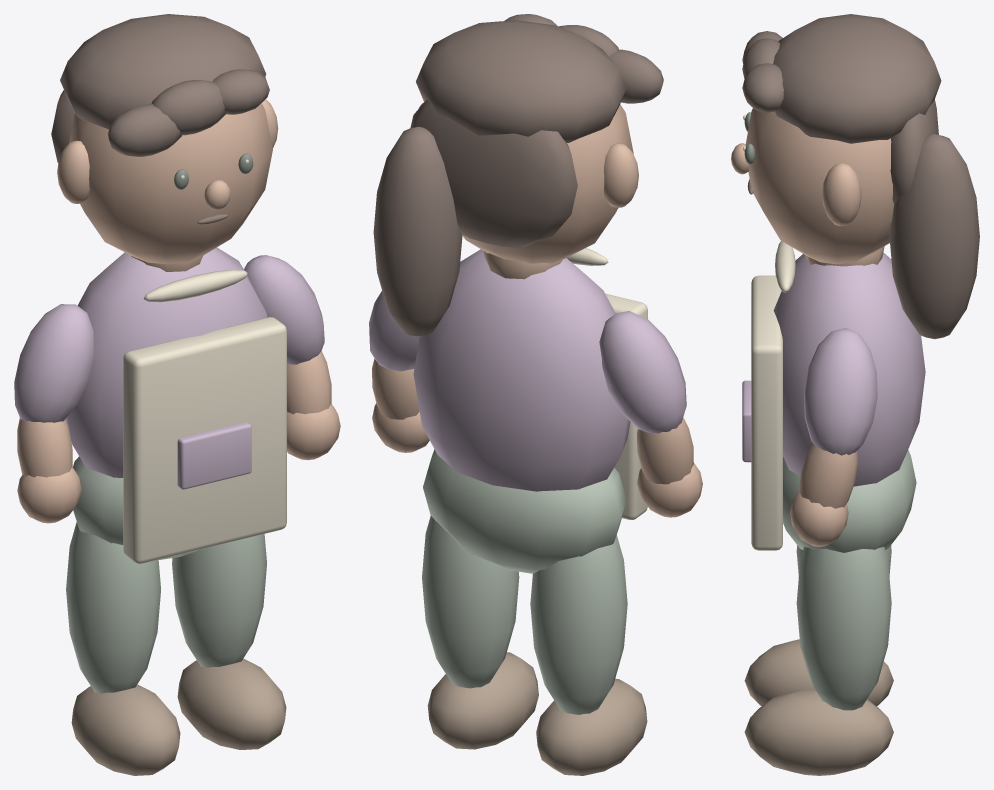
Rendered from alexis-idle.glb.
3 renders of one model, left to right at view 1: azimuth 30°, elevation 25°; view 2: azimuth 150°, elevation 25°; view 3: azimuth 270°, elevation 25°, orthographic. The views are drawn at different scales.
Parts seen in each view (by area): view 1: Apron.003, Head.015, Padded shirt.015, Hair crown.015, Trouser leg.030, Trouser leg.031, Rounded boot.031, Rounded boot.030, Shirt sleeve.030, Shirt sleeve.031, Apron pocket.003, Soft trouser seat.015 (+11 smaller); view 2: Padded shirt.015, Hair crown.015, Soft trouser seat.015, Hair back.015, Ponytail, Trouser leg.030, Trouser leg.031, Shirt sleeve.030, Rounded boot.030, Rounded boot.031, Head.015, Forearm.030 (+9 smaller); view 3: Padded shirt.015, Hair crown.015, Head.015, Ponytail, Trouser leg.031, Rounded boot.031, Apron.003, Shirt sleeve.031, Soft trouser seat.015, Rounded boot.030, Forearm.031, Hair back.015 (+7 smaller).
Boxes of the visible parts, <box> form: Apron.003: <box>123,317,286,563</box>; Head.015: <box>69,103,272,264</box>; Padded shirt.015: <box>65,247,267,477</box>; Hair crown.015: <box>60,14,266,129</box>; Trouser leg.030: <box>66,522,160,693</box>; Trouser leg.031: <box>172,534,266,667</box>; Rounded boot.031: <box>177,658,286,749</box>; Rounded boot.030: <box>71,684,180,775</box>; Shirt sleeve.030: <box>14,304,93,422</box>; Shirt sleeve.031: <box>244,255,324,364</box>; Apron pocket.003: <box>177,422,251,489</box>; Soft trouser seat.015: <box>73,456,198,559</box>; Padded shirt.015: <box>413,249,630,491</box>; Hair crown.015: <box>416,20,626,142</box>; Soft trouser seat.015: <box>423,449,626,573</box>; Hair back.015: <box>410,100,577,247</box>; Ponytail: <box>373,126,462,336</box>; Trouser leg.030: <box>530,535,627,714</box>; Trouser leg.031: <box>422,515,519,688</box>; Shirt sleeve.030: <box>599,311,686,433</box>; Rounded boot.030: <box>536,678,647,775</box>; Rounded boot.031: <box>427,652,538,749</box>; Head.015: <box>462,104,633,263</box>; Forearm.030: <box>637,417,693,484</box>; Padded shirt.015: <box>773,252,925,486</box>; Hair crown.015: <box>773,14,941,143</box>; Head.015: <box>745,108,893,264</box>; Ponytail: <box>889,134,979,339</box>; Trouser leg.031: <box>796,546,891,710</box>; Rounded boot.031: <box>744,689,893,775</box>; Apron.003: <box>751,275,782,550</box>; Shirt sleeve.031: <box>804,328,877,455</box>; Soft trouser seat.015: <box>783,450,916,552</box>; Rounded boot.030: <box>744,639,893,706</box>; Forearm.031: <box>798,443,857,508</box>; Hair back.015: <box>890,99,938,203</box>.
Bounding box in the file's own units: 0.806 × 1.74 × 0.55.
